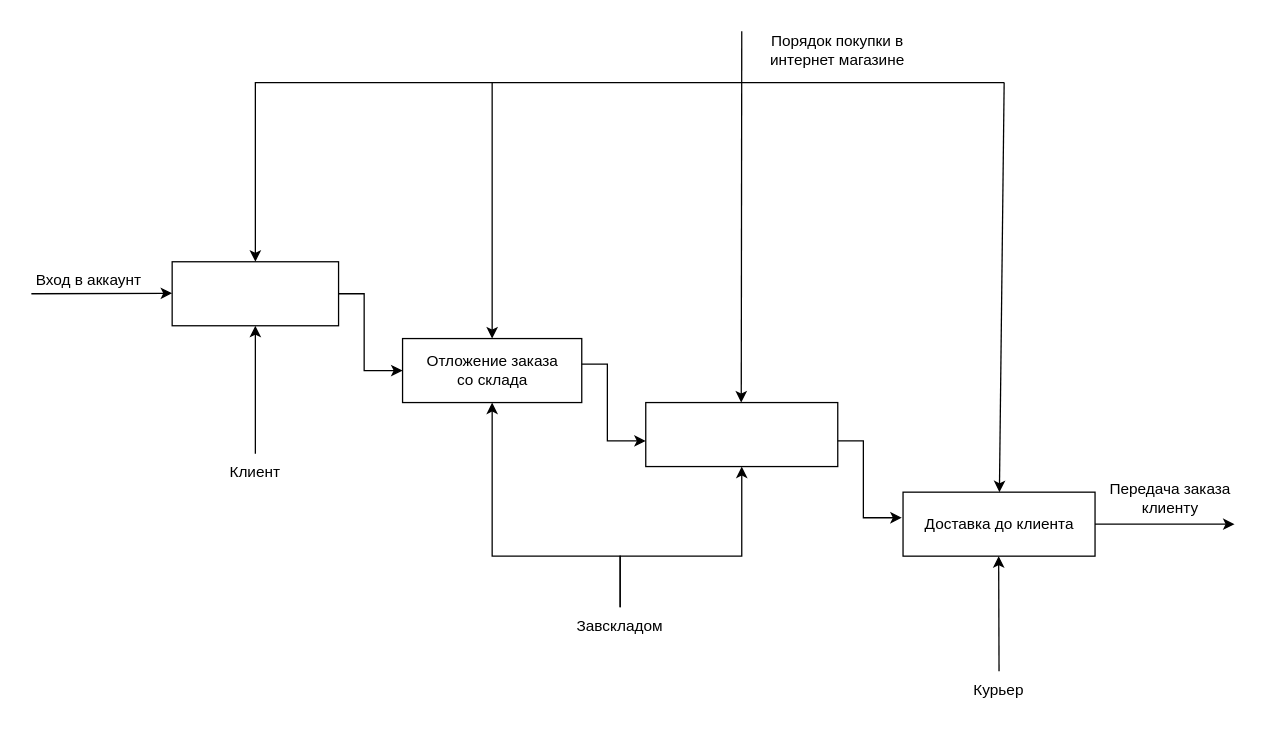
Image size: 1267x732. Some labels were removed from this diagram. The centre of each missing label's shape, as x and y in pixels:
"Оформление заказа" goes at point 255,293.
"Передача заказа курьеру" goes at point 741,434.
